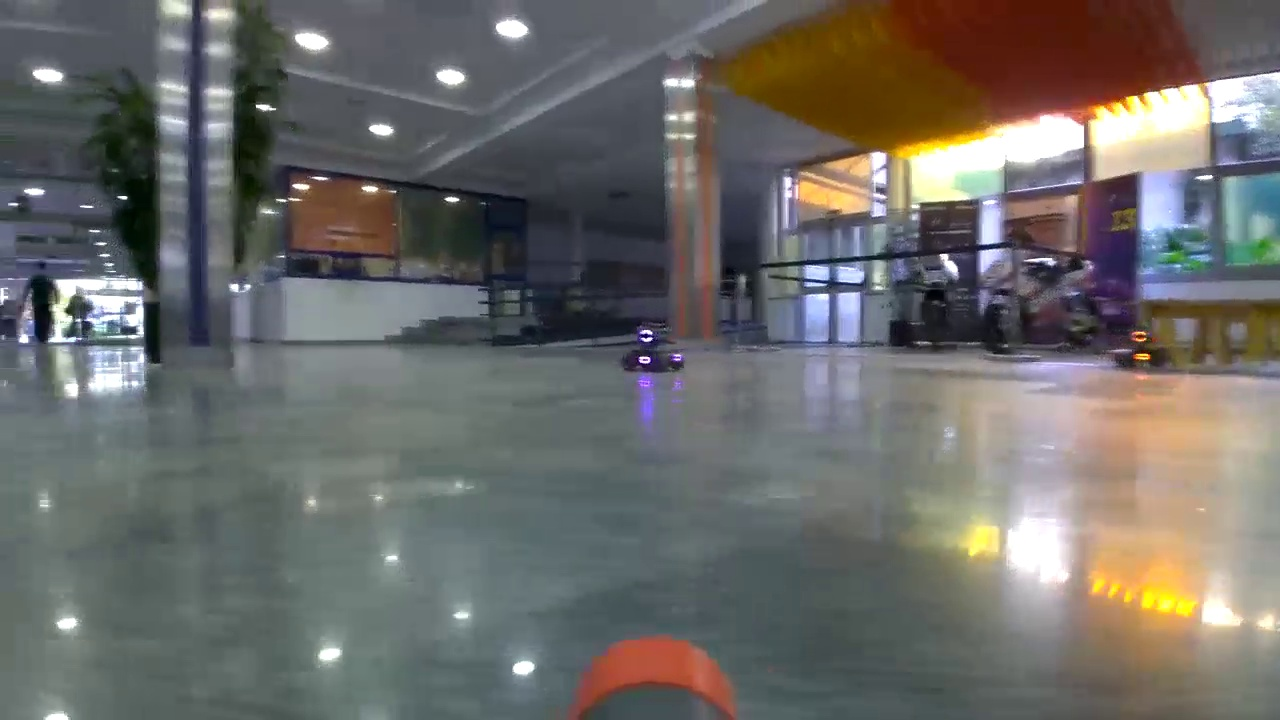robot: (620, 318, 688, 372), (1115, 325, 1172, 370)
